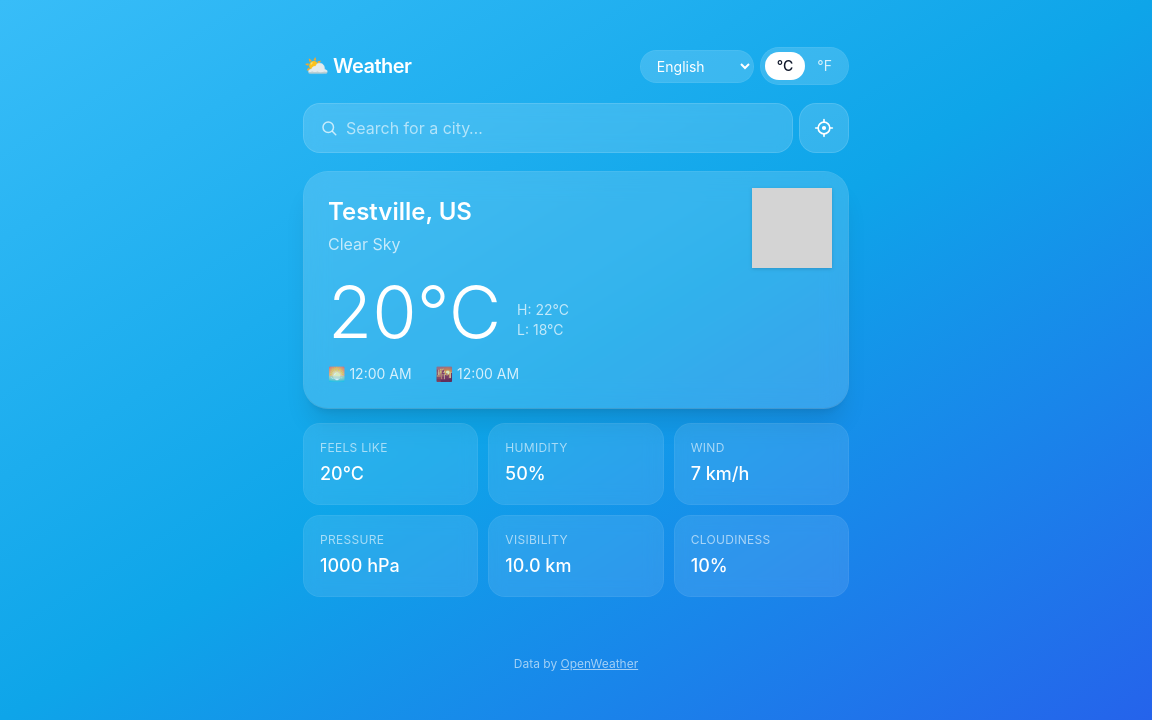
Scenario: App › refetches in the new language and re-labels the UI
The image size is (1152, 720).
Expected: the heading "Testville, US" is shown, [328,196,472,228]
Select "Deutsch" in the dropdown named "Language" at (697, 66), box [641,50,753,82]
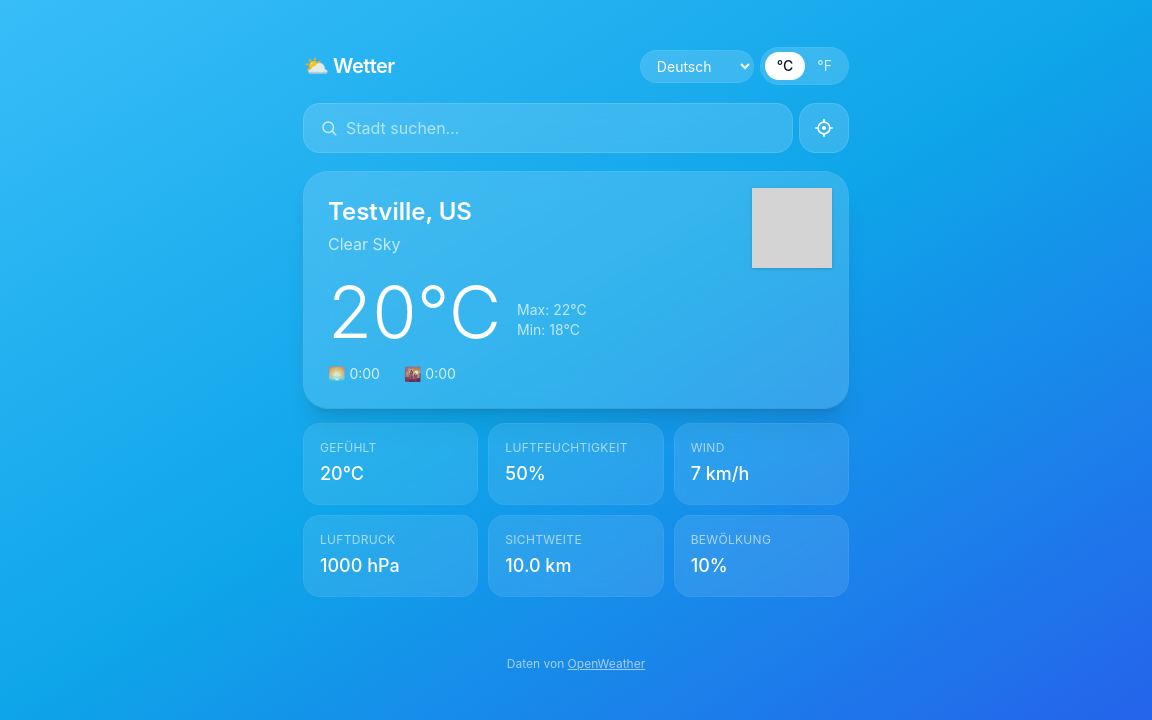
Expected: the search field with placeholder "Stadt suchen…" is shown, [346,116,776,140]
